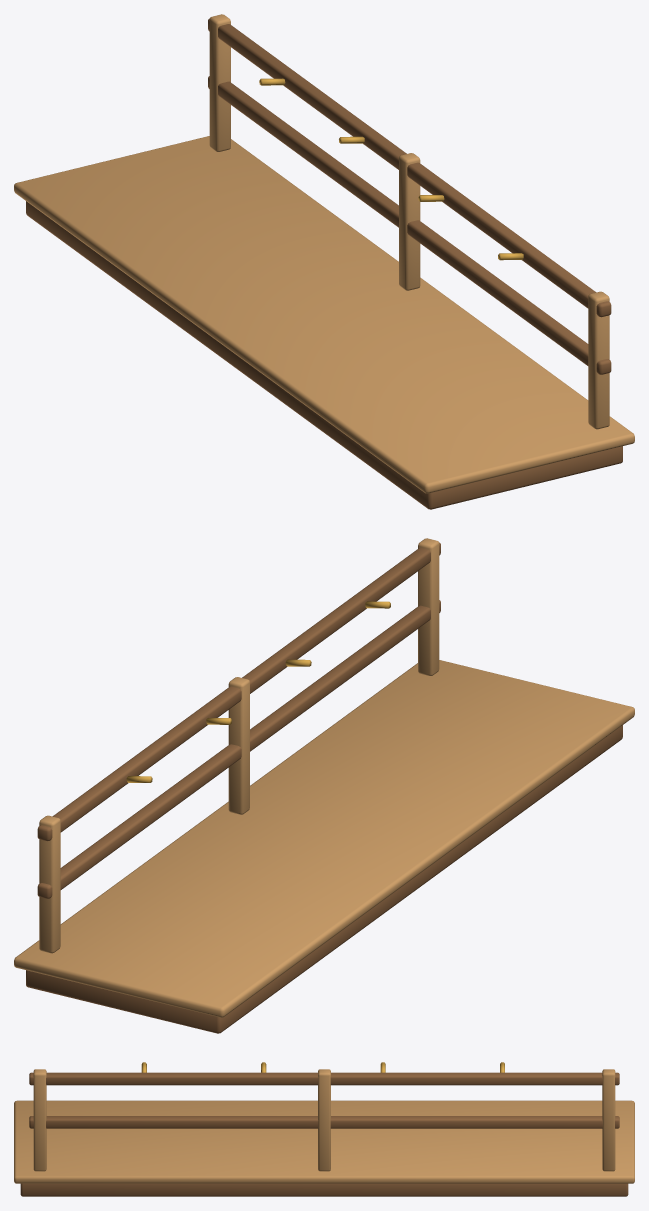
Rendered from tool-stand.glb.
The picture shows the model from 3 angles, top to bottom: view 1: azimuth 30°, elevation 25°; view 2: azimuth 150°, elevation 25°; view 3: azimuth 270°, elevation 25°; orthographic projection. The views are drawn at different scales.
Visible parts, largest first — view 1: stand; view 2: stand; view 3: stand.
Boxes of the visible parts, <box> form: stand: <box>14,14,634,509</box>; stand: <box>14,538,634,1033</box>; stand: <box>14,1062,634,1196</box>.
Bounding box in the file's own units: 0.84 × 0.62 × 2.86.
